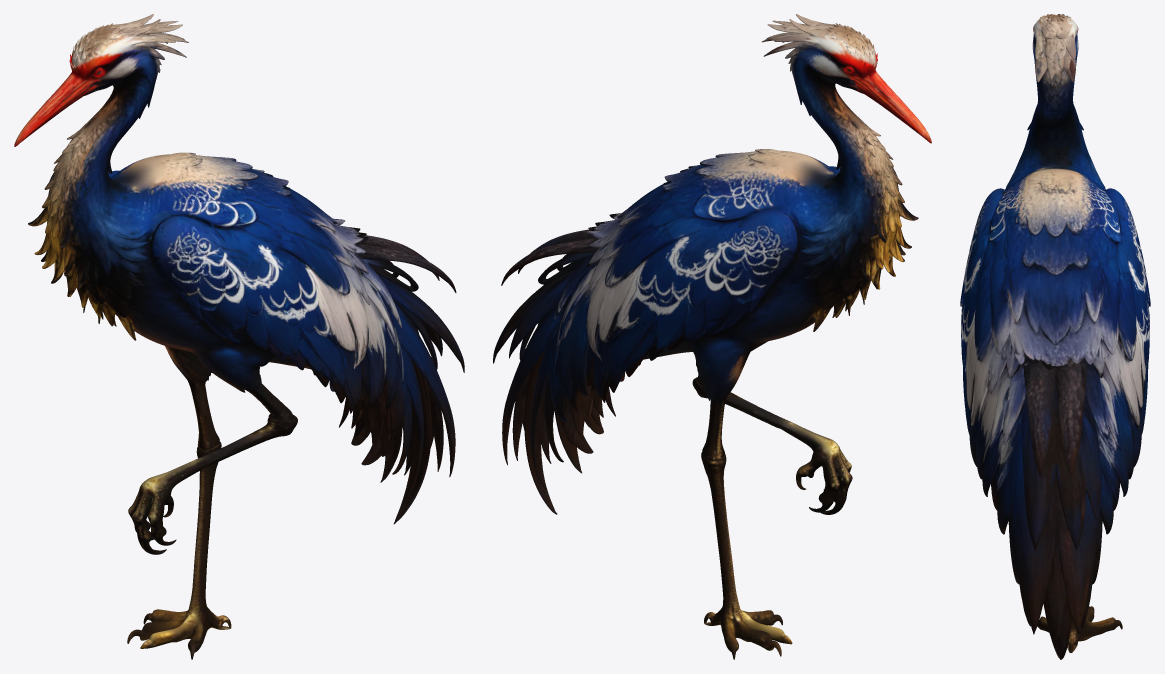
Rendered from bi-fang.glb.
The picture shows the model from 3 angles, left to right: view 1: azimuth 30°, elevation 25°; view 2: azimuth 150°, elevation 25°; view 3: azimuth 270°, elevation 25°; orthographic projection. The views are drawn at different scales.
Visible parts, largest first — view 1: node_0; view 2: node_0; view 3: node_0.
Part boxes in pixels (box(x1,y1,x2,y2)): node_0: box(14, 14, 464, 659); node_0: box(493, 14, 931, 659); node_0: box(960, 14, 1150, 659).
Size of the model in its own units: 0.7887 by 1.1 by 0.3264.
1 material, 1 textured.
